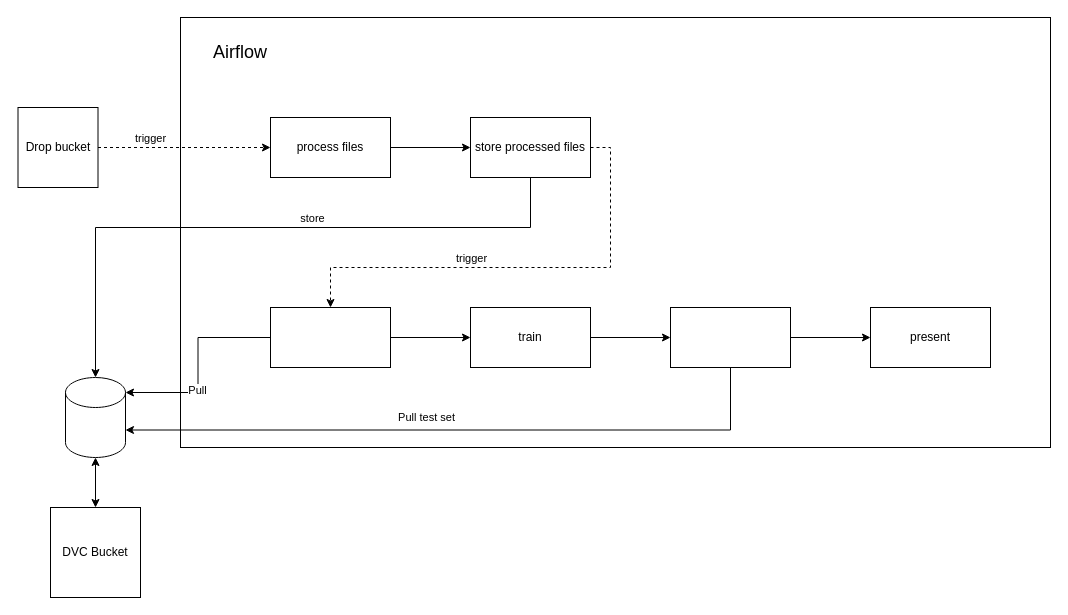
Some shapes in this 1068 by 615 pixel diagram are drawn without their labels. Here are the shapes that lost their labels. From the top down, the box of each, then its label:
(270, 306, 390, 368): Pull new data
(670, 306, 790, 368): evaluate
(64, 376, 126, 458): DVC
